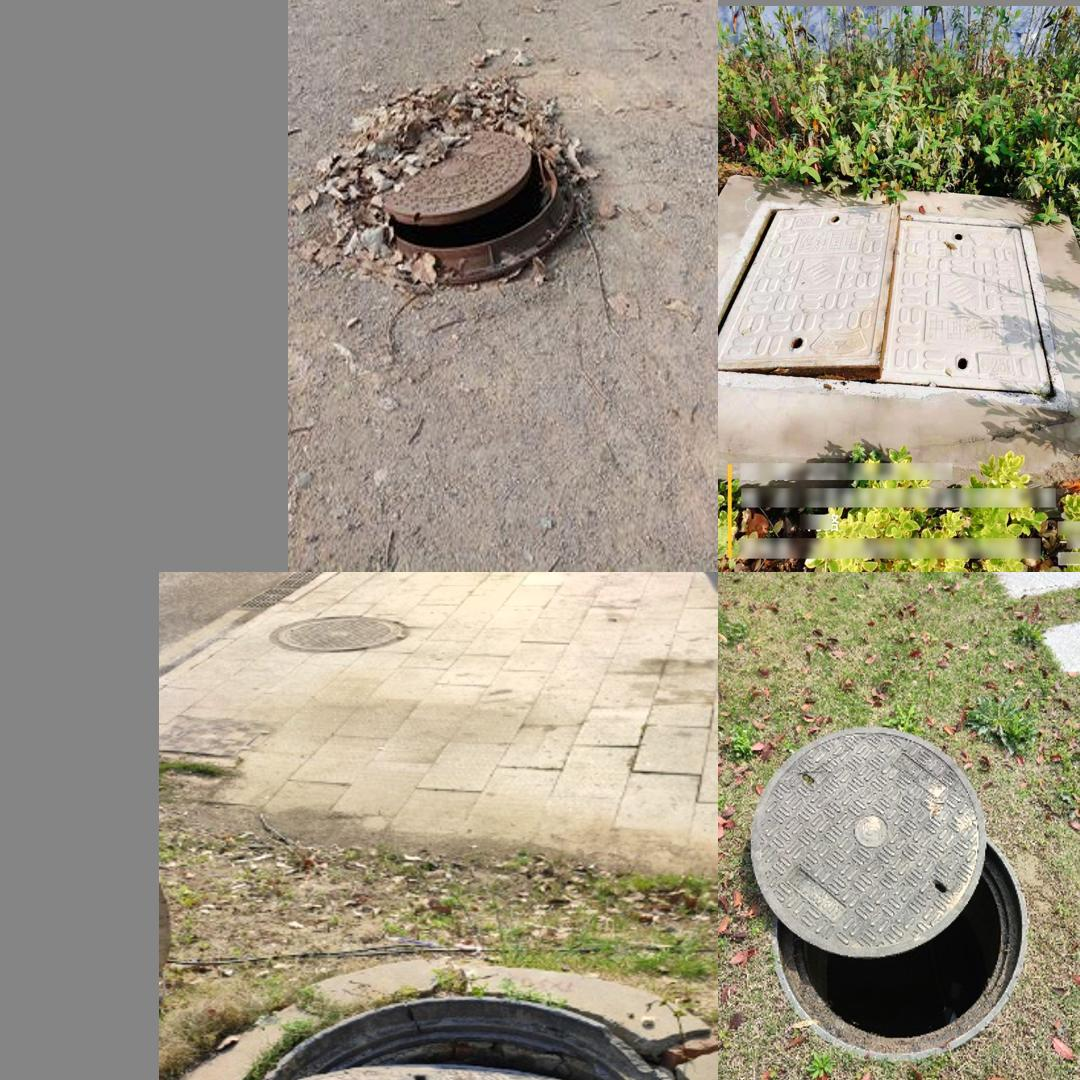uncovered: (749, 727, 1028, 1059), (719, 200, 1070, 408), (222, 990, 687, 1080), (361, 104, 586, 279)
